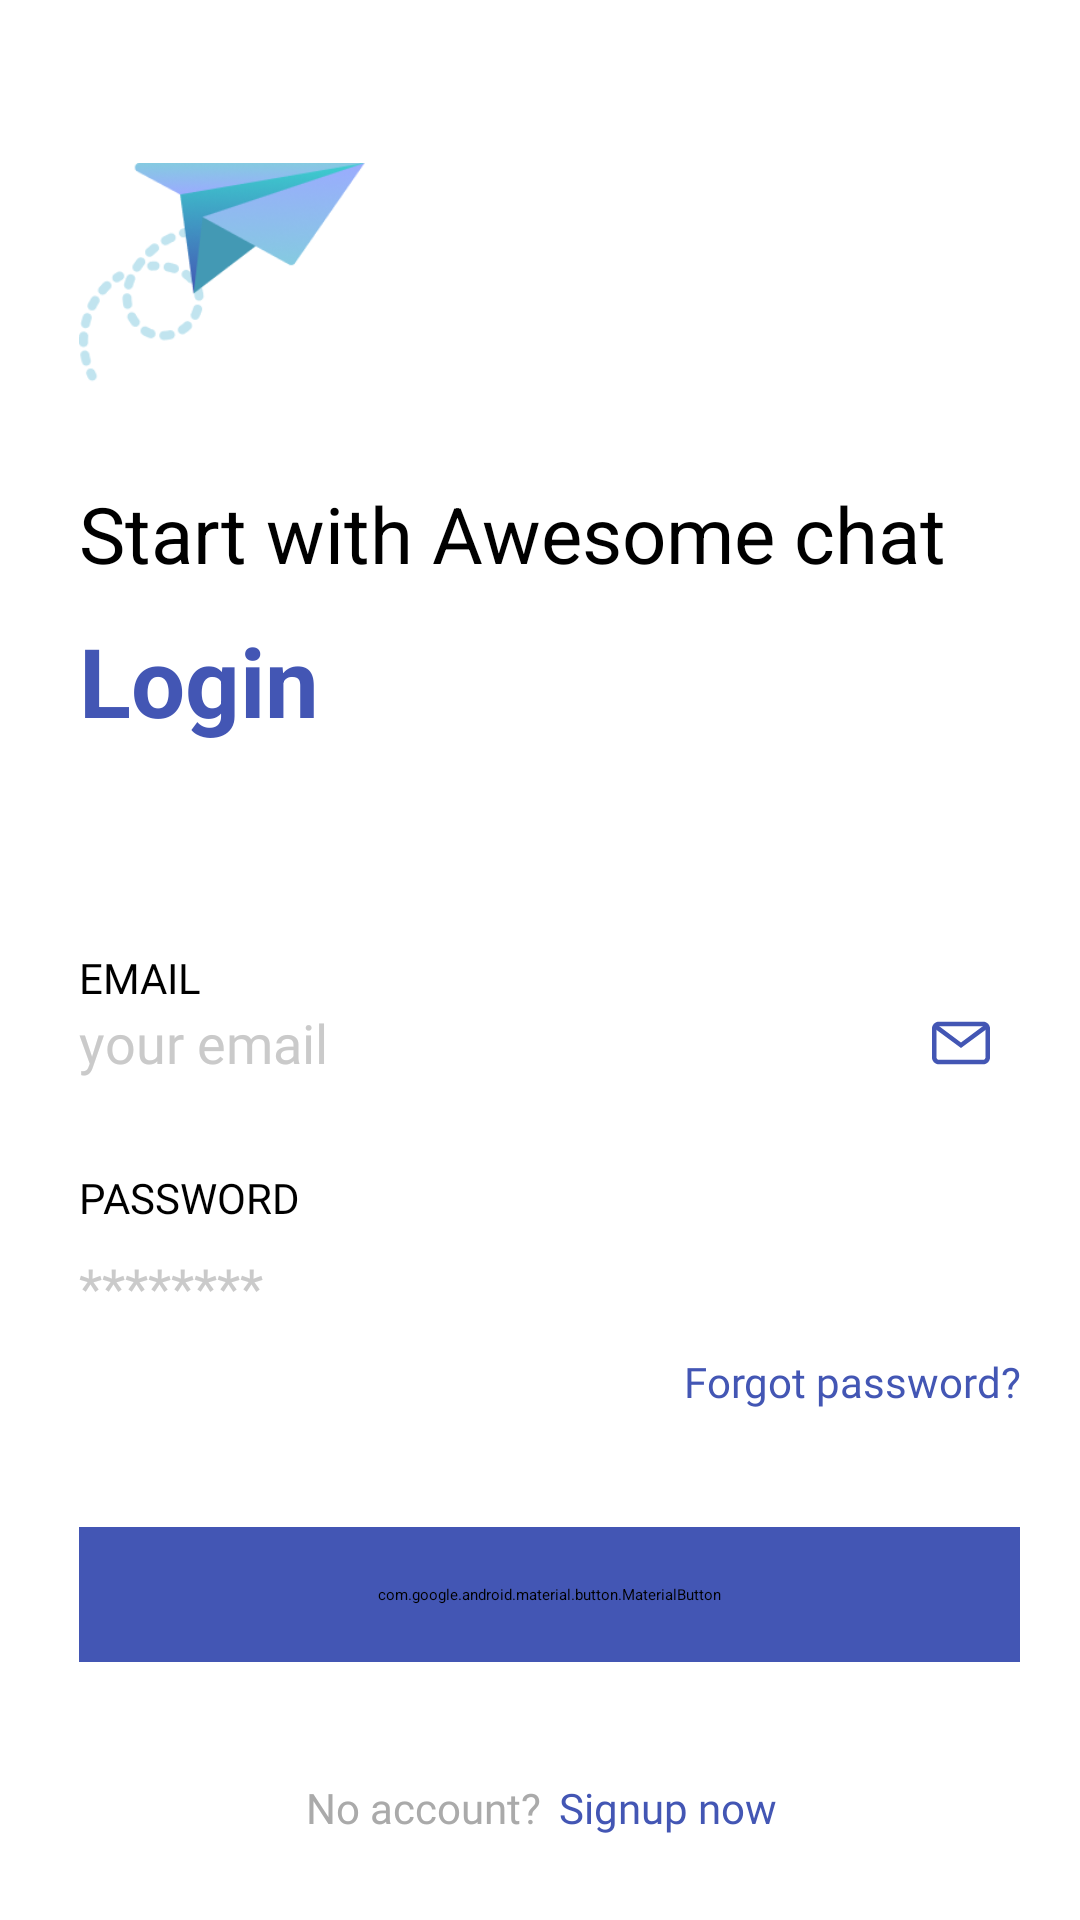

Named icons in this screenshot (1080x1920) and their bounding boxes, (x1, y1, x2, y2):
mail login: (932, 1021, 990, 1065)
